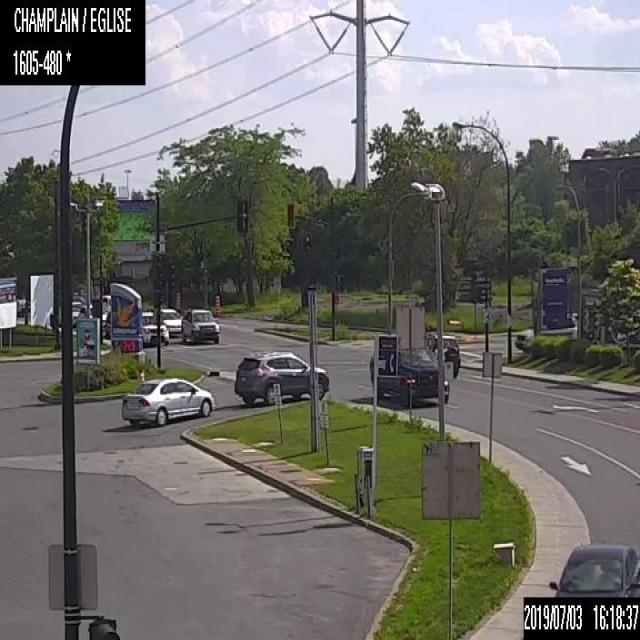construction: (215, 294, 220, 316), (175, 291, 180, 310)
vehicle: (233, 350, 328, 406), (548, 541, 639, 596), (369, 348, 449, 405), (122, 377, 216, 424), (426, 332, 459, 379), (181, 308, 219, 342), (141, 309, 168, 345), (160, 306, 183, 334), (71, 300, 82, 327), (102, 311, 111, 337), (78, 304, 92, 318), (102, 293, 110, 311)
